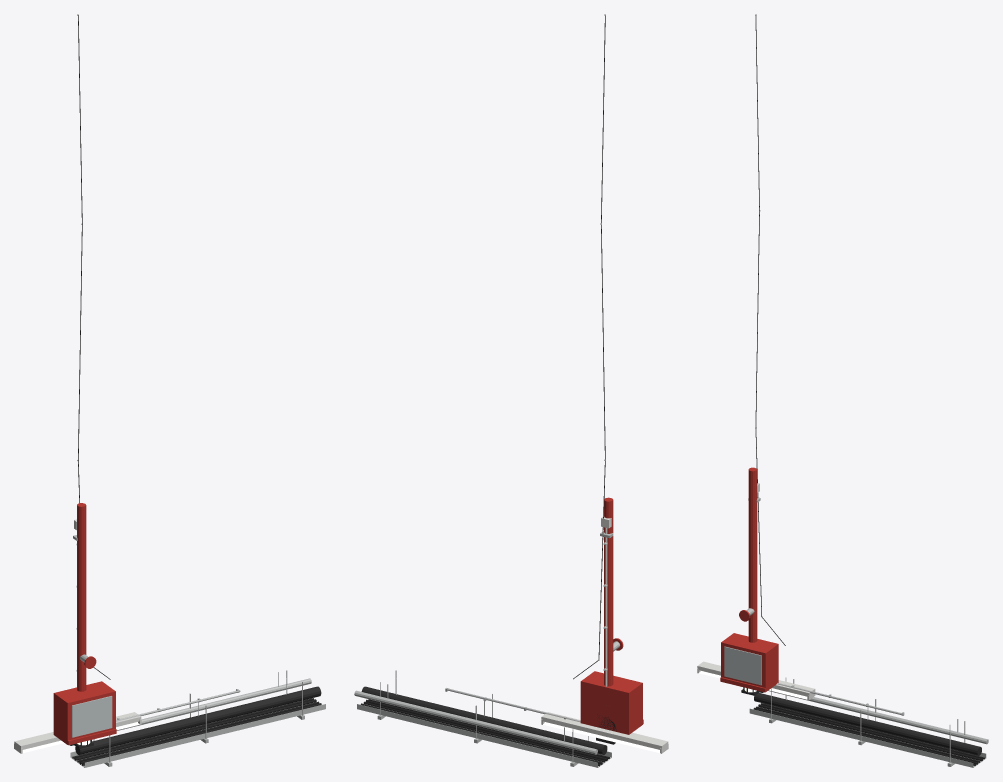
The model's file is heron-reach-sl-lights.glb.
The picture shows the model from 3 angles, left to right: view 1: azimuth 30°, elevation 25°; view 2: azimuth 150°, elevation 25°; view 3: azimuth 330°, elevation 25°; orthographic projection. The views are drawn at different scales.
Parts seen in each view (by area): view 1: hr_prop_cable_tray_3m, hr_prop_ceiling_pipes_3m, hr_prop_dry_riser_inlet, hr_prop_dry_riser_landing, hr_prop_light_batten_1500_twin, hr_prop_coax_drop_3storey; view 2: hr_prop_cable_tray_3m, hr_prop_dry_riser_inlet, hr_prop_ceiling_pipes_3m, hr_prop_dry_riser_landing, hr_prop_light_batten_1500_twin, hr_prop_coax_drop_3storey, hr_prop_conduit_riser_2m4; view 3: hr_prop_ceiling_pipes_3m, hr_prop_cable_tray_3m, hr_prop_dry_riser_inlet, hr_prop_dry_riser_landing, hr_prop_coax_drop_3storey, hr_prop_light_batten_1500_twin.
Part boxes in pixels (x1,y1,x2,y2): hr_prop_cable_tray_3m: (70,670,325,767); hr_prop_ceiling_pipes_3m: (75,672,321,754); hr_prop_dry_riser_inlet: (53,681,116,745); hr_prop_dry_riser_landing: (73,503,96,691); hr_prop_light_batten_1500_twin: (14,712,141,753); hr_prop_coax_drop_3storey: (77,14,110,679); hr_prop_cable_tray_3m: (357,670,611,767); hr_prop_dry_riser_inlet: (580,671,643,734); hr_prop_ceiling_pipes_3m: (354,678,607,754); hr_prop_dry_riser_landing: (600,497,623,686); hr_prop_light_batten_1500_twin: (541,712,668,753); hr_prop_coax_drop_3storey: (573,14,605,679); hr_prop_conduit_riser_2m4: (601,517,611,686); hr_prop_ceiling_pipes_3m: (754,679,988,755); hr_prop_cable_tray_3m: (749,677,986,767); hr_prop_dry_riser_inlet: (720,633,778,692); hr_prop_dry_riser_landing: (739,467,760,642); hr_prop_coax_drop_3storey: (755,14,785,645); hr_prop_light_batten_1500_twin: (697,661,815,700).
Size of the model in its own units: 3.75 by 8.95 by 0.5298.
